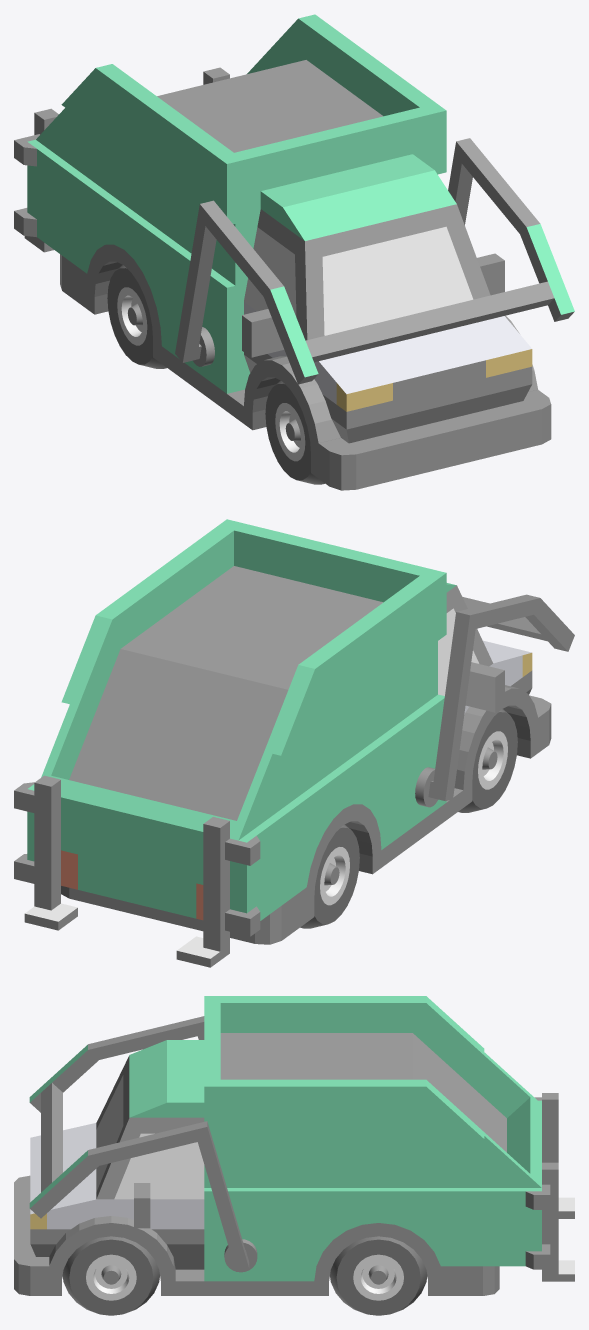
Rendered from garbageTruck.fbx.
3 views of the same model, one above another, from view 1: azimuth 30°, elevation 25°; view 2: azimuth 150°, elevation 25°; view 3: azimuth 270°, elevation 25° (orthographic). The views are drawn at different scales.
Parts seen in each view (by area): view 1: body, arm, wheel_frontRight, wheel_backRight; view 2: body, arm, wheel_backRight, wheel_frontRight; view 3: body, arm, wheel_backLeft, wheel_frontLeft.
Boxes of the visible parts, x1,y1,x2,y2 form: body: [14, 14, 551, 490]; arm: [175, 138, 574, 384]; wheel_frontRight: [265, 380, 324, 484]; wheel_backRight: [107, 265, 166, 368]; body: [14, 519, 551, 967]; arm: [415, 594, 574, 807]; wheel_backRight: [300, 824, 359, 928]; wheel_frontRight: [458, 709, 517, 812]; body: [14, 996, 574, 1295]; arm: [29, 1016, 257, 1272]; wheel_backLeft: [330, 1236, 427, 1315]; wheel_frontLeft: [62, 1236, 159, 1315].
Bounding box in the file's own units: 160 × 160 × 340.
